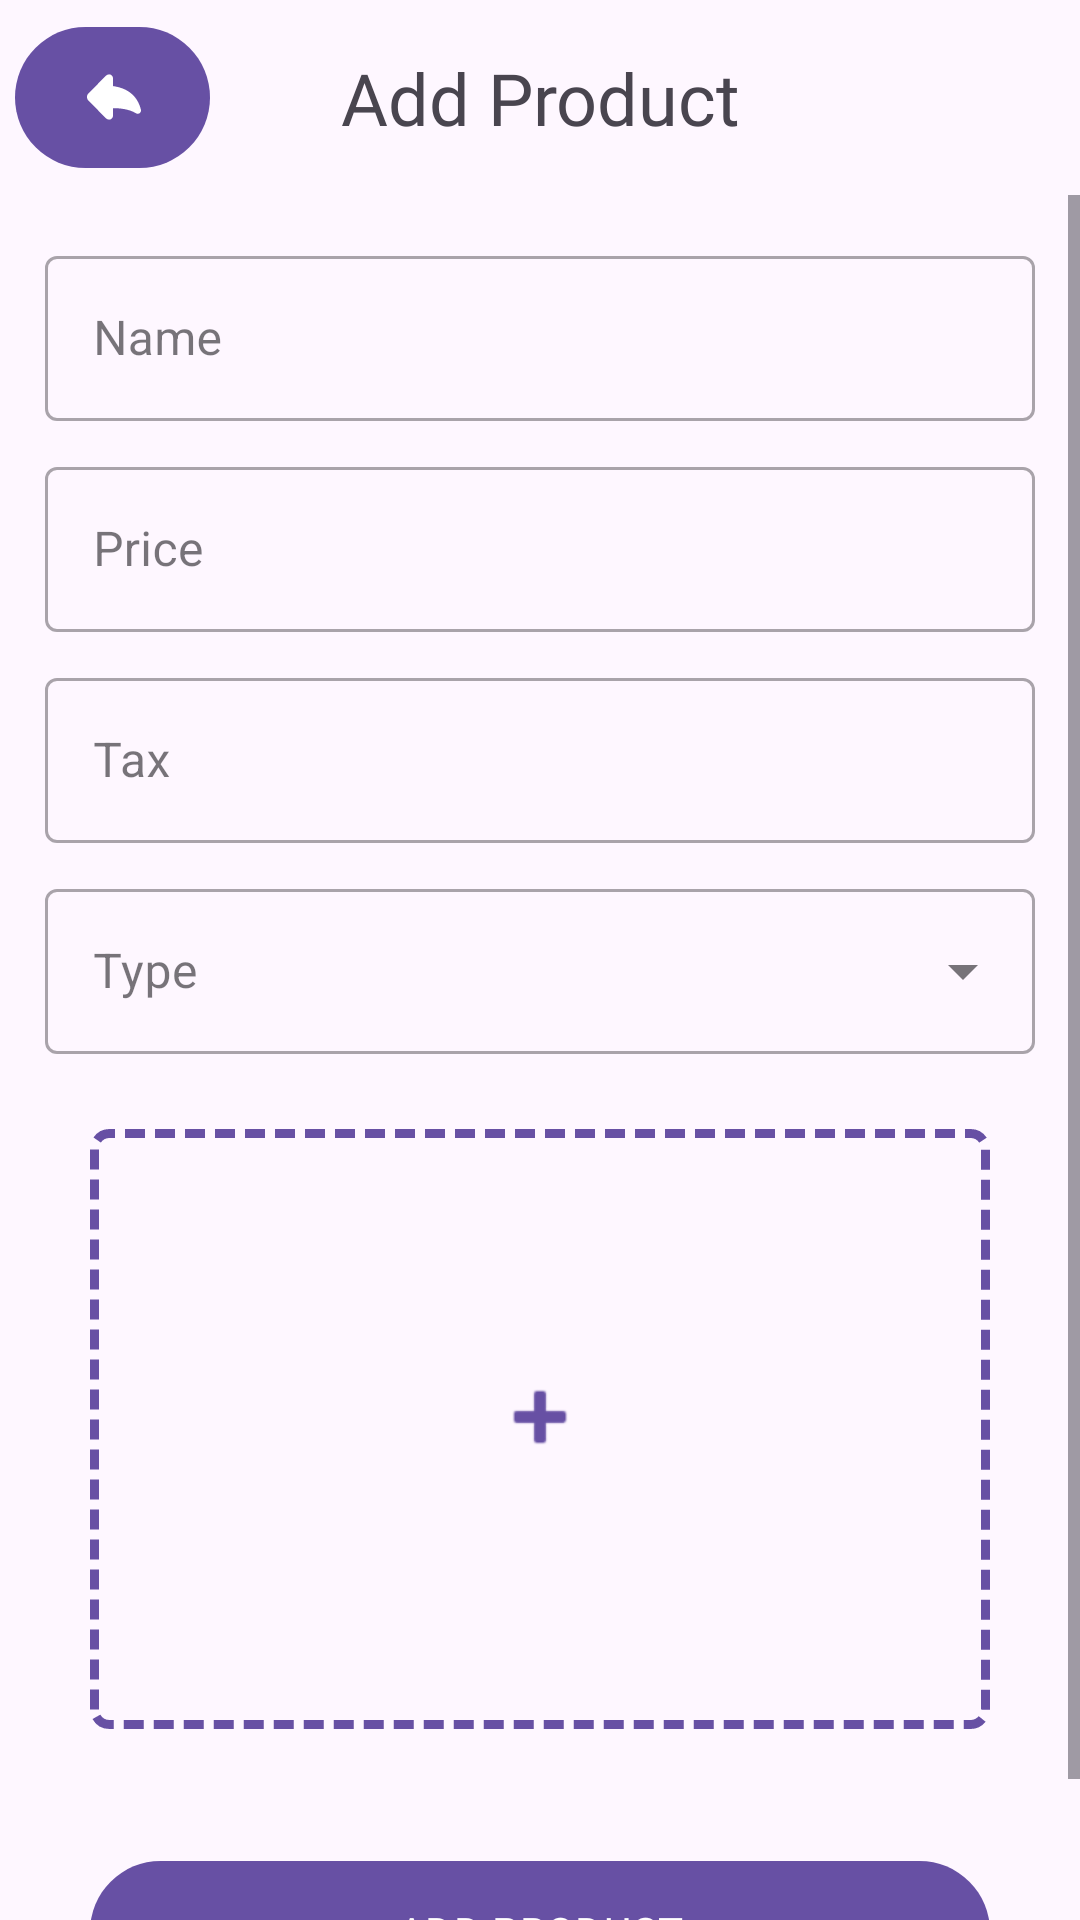

Icon click points for this 1080×1920 phone screenshot, format (x,y):
back: (112,97)
